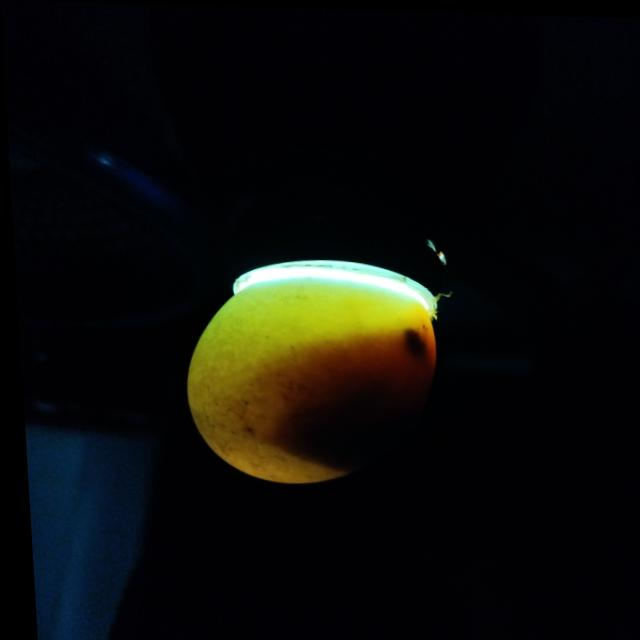Area Infectada: (257, 325, 429, 471)
